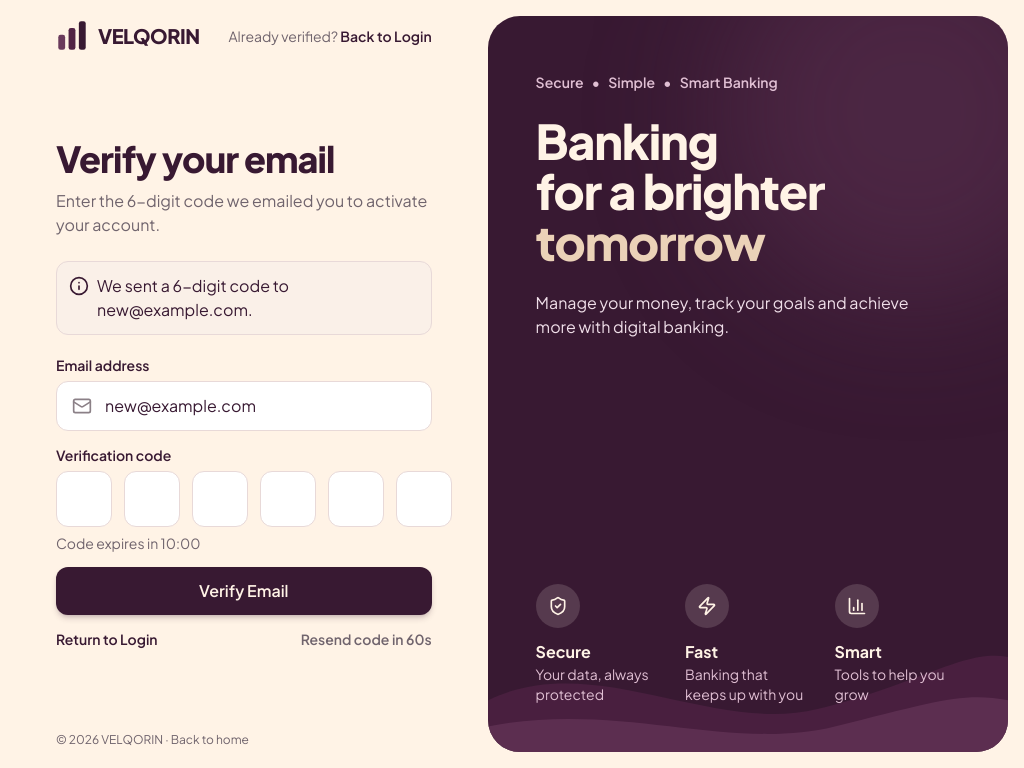
Test: registration and email verification › verifies the code and offers login
Type "12a3456" into the field named "Digit 1 of 6" at (84, 498), box [56,470,112,526]
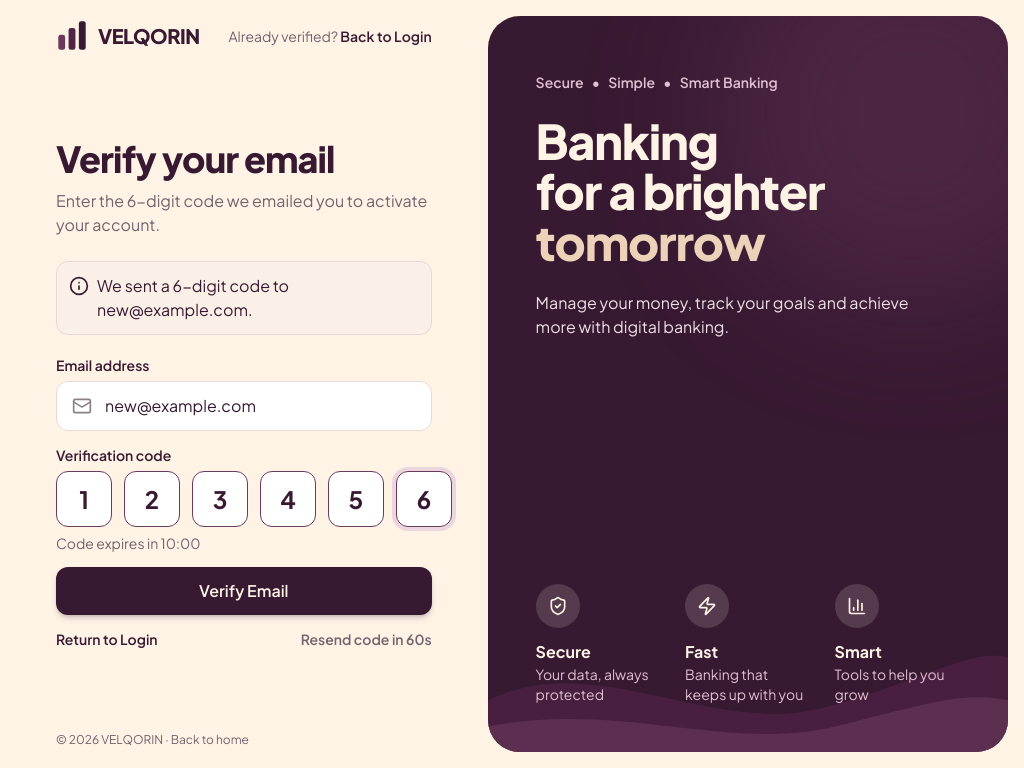
Click the button "Verify Email" at (244, 590), box [56,566,432,614]
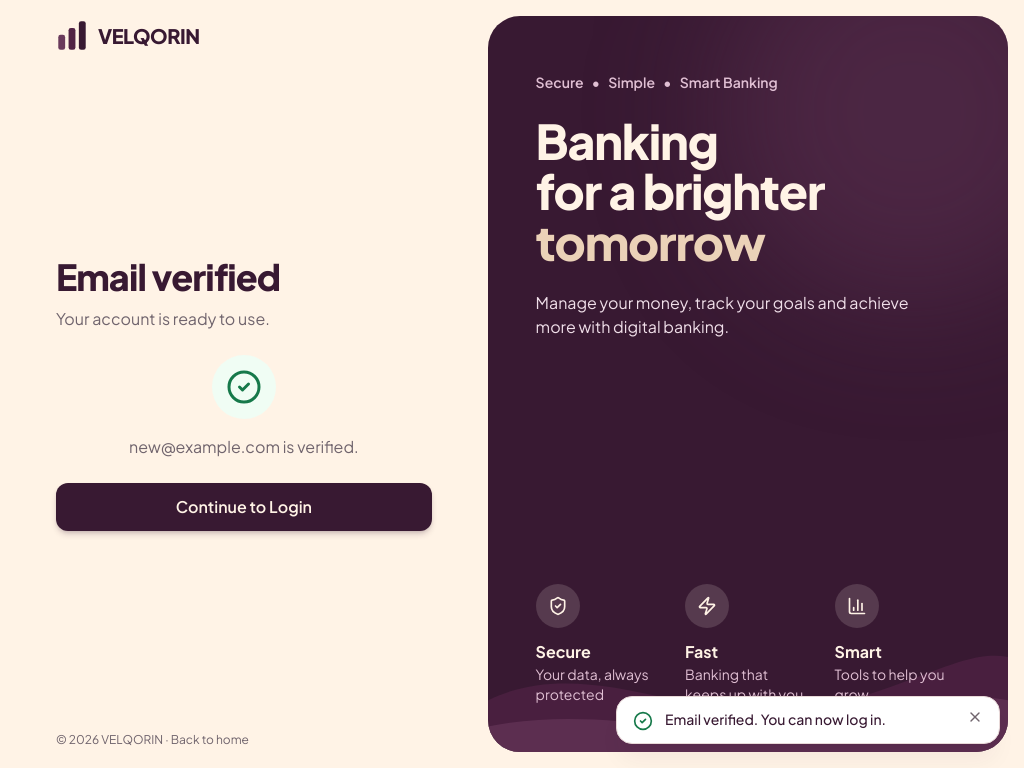
expect the heading "Email verified" is shown: met, box [56,254,280,298]
